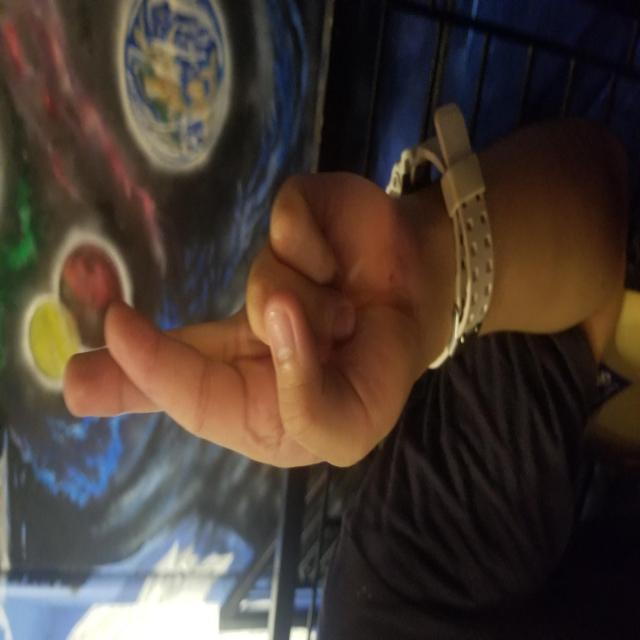R: (169, 61, 472, 413)
